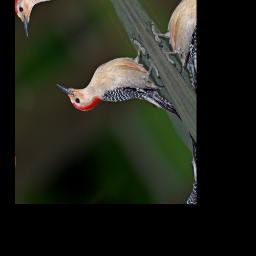Woodpecker: (54, 22, 188, 178)
